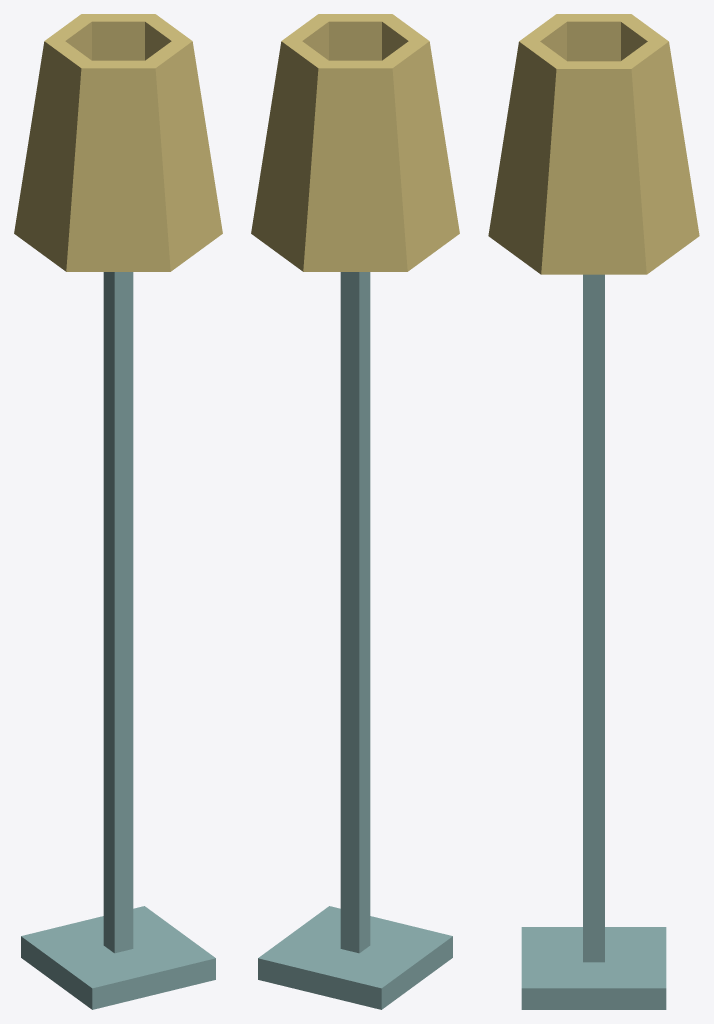
File: lampRoundFloor.glb
The picture shows the model from 3 angles, left to right: view 1: azimuth 30°, elevation 25°; view 2: azimuth 150°, elevation 25°; view 3: azimuth 270°, elevation 25°; orthographic projection.
Visible parts, largest first — view 1: lampRoundFloor; view 2: lampRoundFloor; view 3: lampRoundFloor.
Boxes of the visible parts, left/top/right/bottom form: lampRoundFloor: left=14, top=14, right=222, bottom=1009; lampRoundFloor: left=251, top=14, right=459, bottom=1009; lampRoundFloor: left=488, top=14, right=699, bottom=1009.
Size of the model in its own units: 0.3041 by 1.72 by 0.3511.
